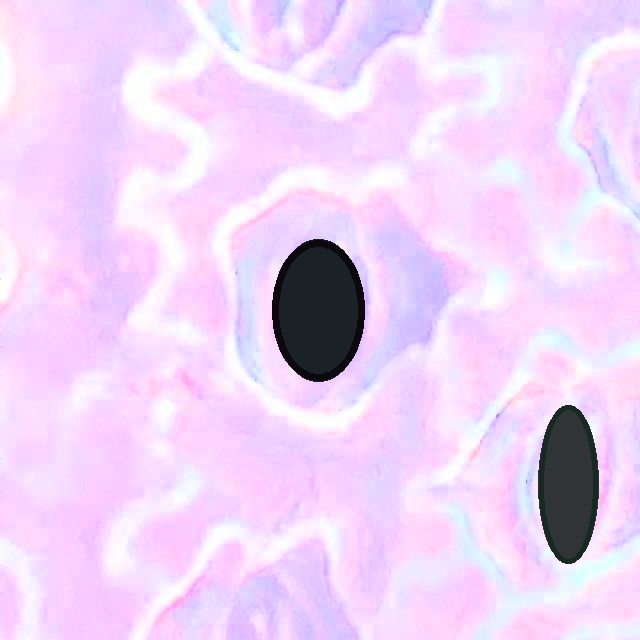open: (272, 239, 364, 380), (538, 405, 598, 563)
